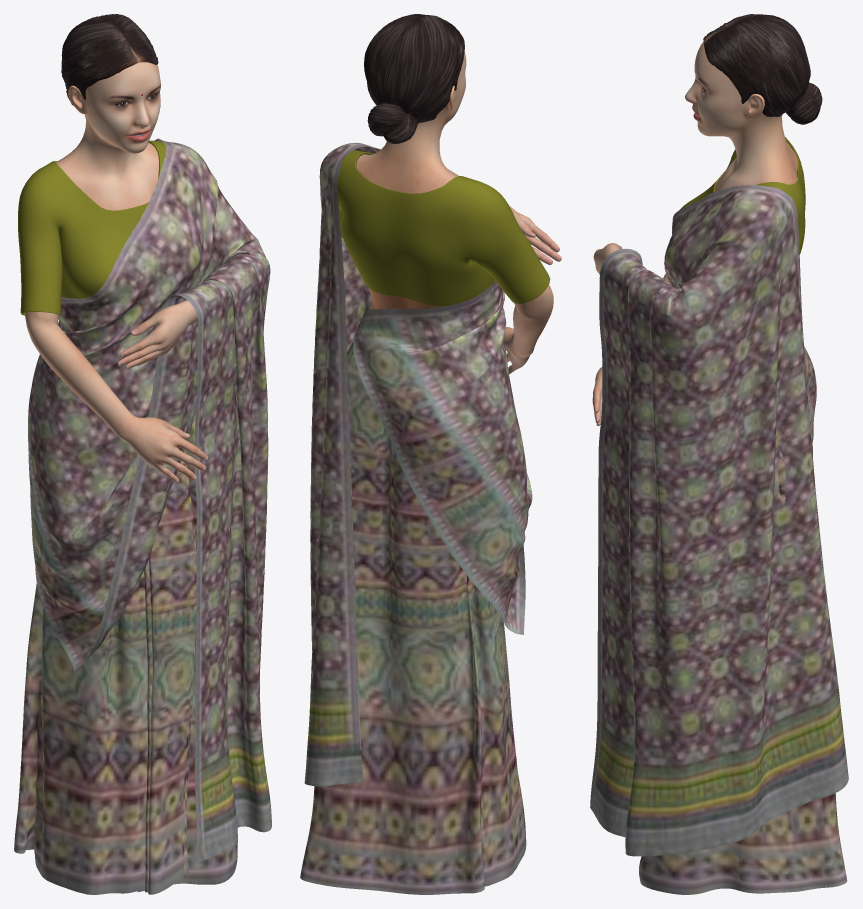
The model's file is Girl_2.gltf.
3 views of the same model, side by side, from view 1: azimuth 30°, elevation 25°; view 2: azimuth 150°, elevation 25°; view 3: azimuth 270°, elevation 25° (orthographic). The views are drawn at different scales.
Parts seen in each view (by area): view 1: Group1, Group2, ZBrush_defualt_group, HAIR; view 2: Group1, ZBrush_defualt_group, HAIR, Group2; view 3: Group1, Group2, HAIR, ZBrush_defualt_group.
Boxes of the visible parts, <box> form: Group1: <box>14,138,271,894</box>; Group2: <box>25,62,208,482</box>; ZBrush_defualt_group: <box>18,140,166,315</box>; HAIR: <box>61,14,158,105</box>; Group1: <box>300,142,532,894</box>; ZBrush_defualt_group: <box>337,150,550,306</box>; HAIR: <box>364,14,464,143</box>; Group2: <box>341,52,561,374</box>; Group1: <box>590,185,848,894</box>; Group2: <box>592,42,797,425</box>; HAIR: <box>703,14,822,124</box>; ZBrush_defualt_group: <box>680,137,805,254</box>.
Size of the model in its own units: 0.518 by 1.8 by 0.504.
4 materials, 4 textured.
